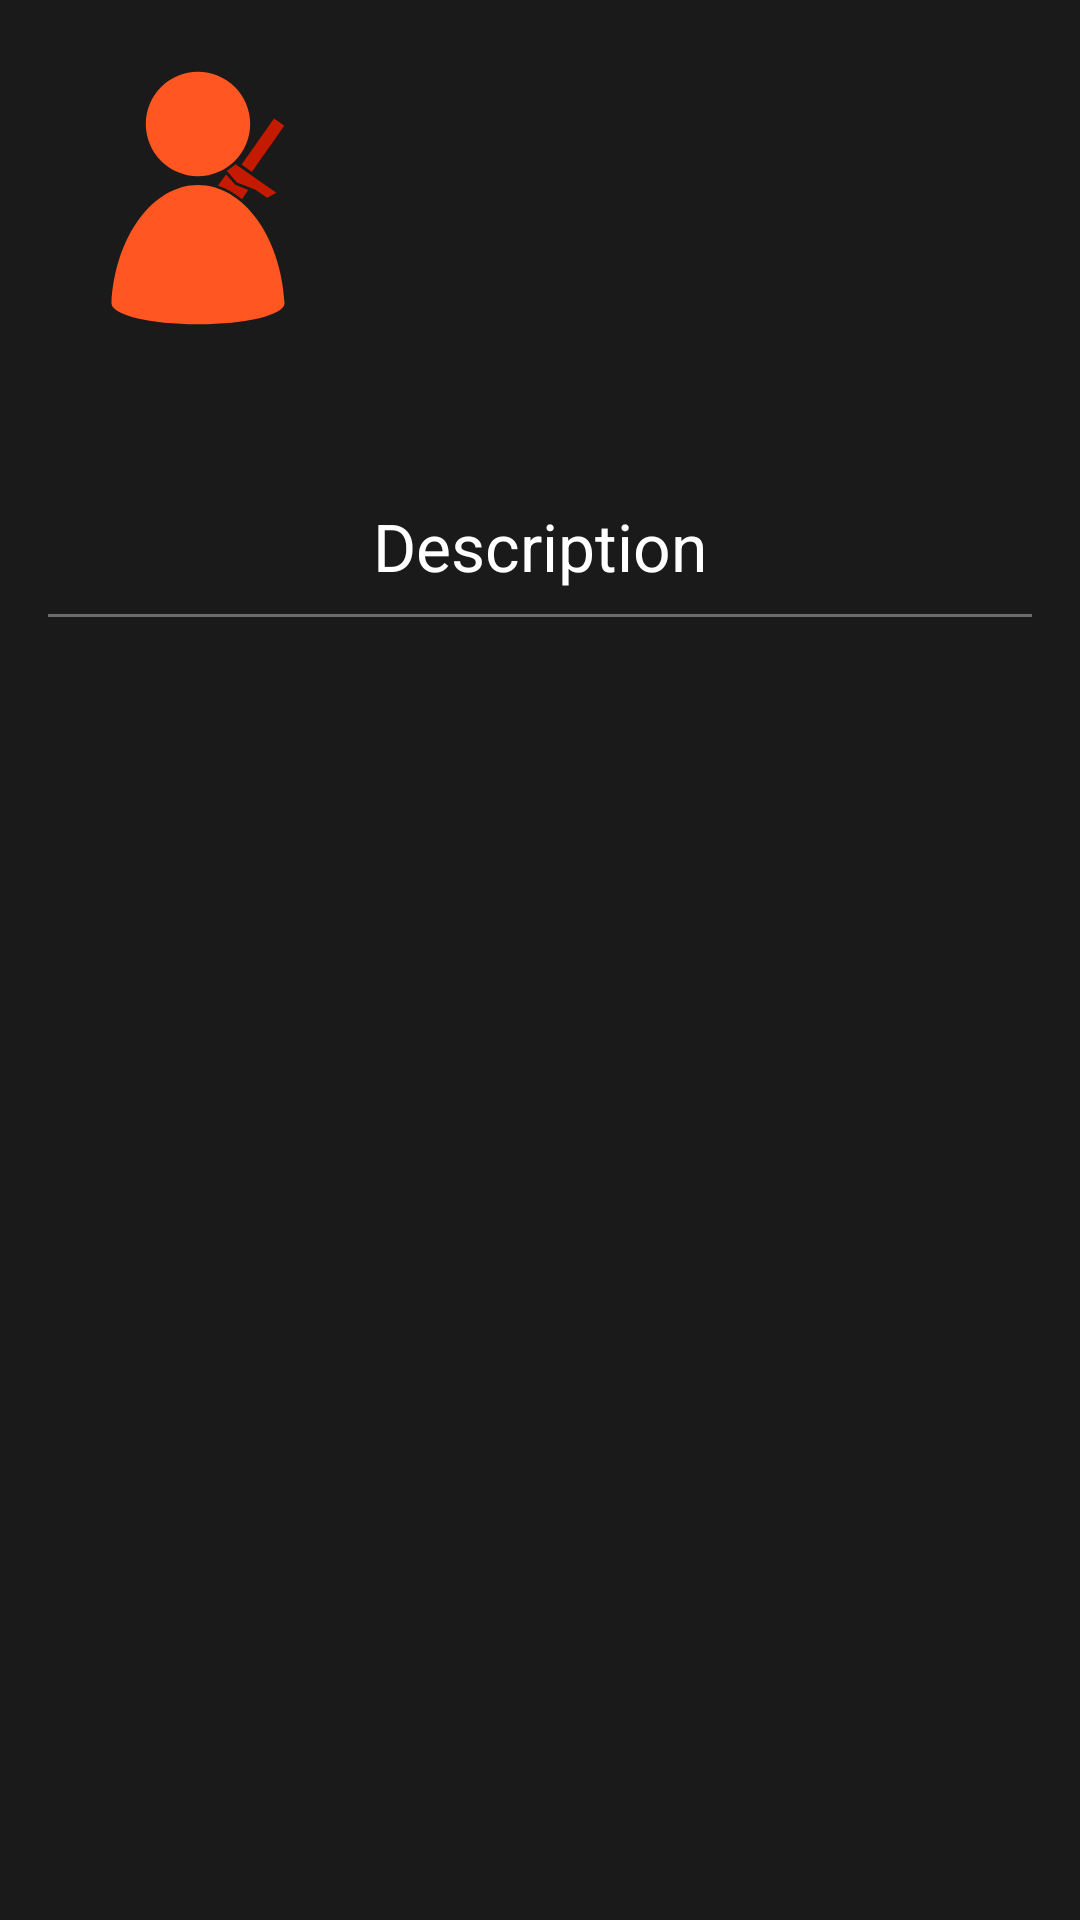

Where to tap for icons on this 1080x1920 app screen, as [x,y]:
character: [198,198]
